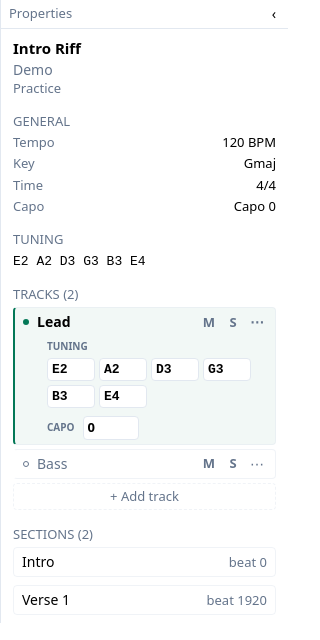
Test: TabProperties › kebab toggles open and closed (TAB-009 T20)
Click the button named "Track menu Bass".
click(257, 464)  # box [247,454,267,474]
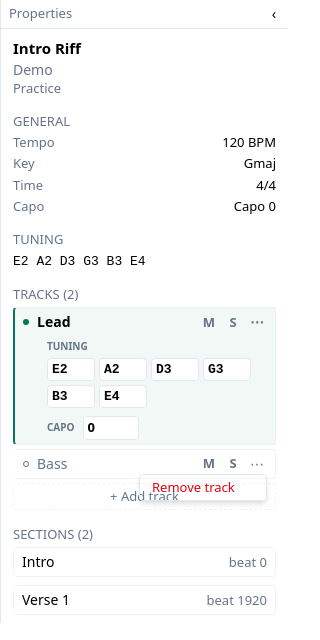
Expected: the menu item "Remove track" is shown, [140,475,266,500]
Click the button named "Track menu Bass".
click(257, 464)  # box [247,454,267,474]
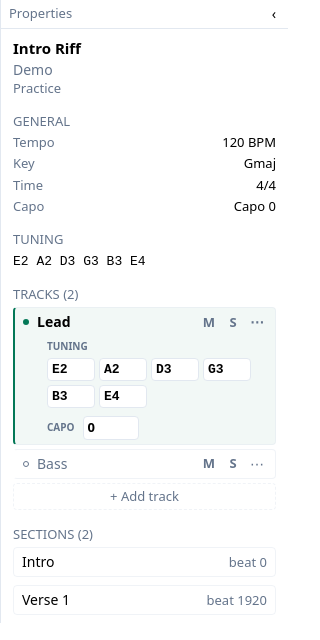
Expected: the menu item "Remove track" is gone
